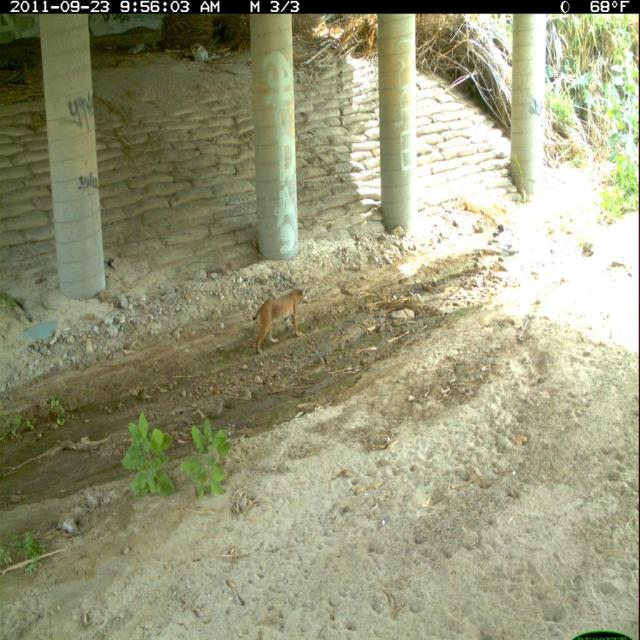bobcat: (251, 282, 309, 359)
